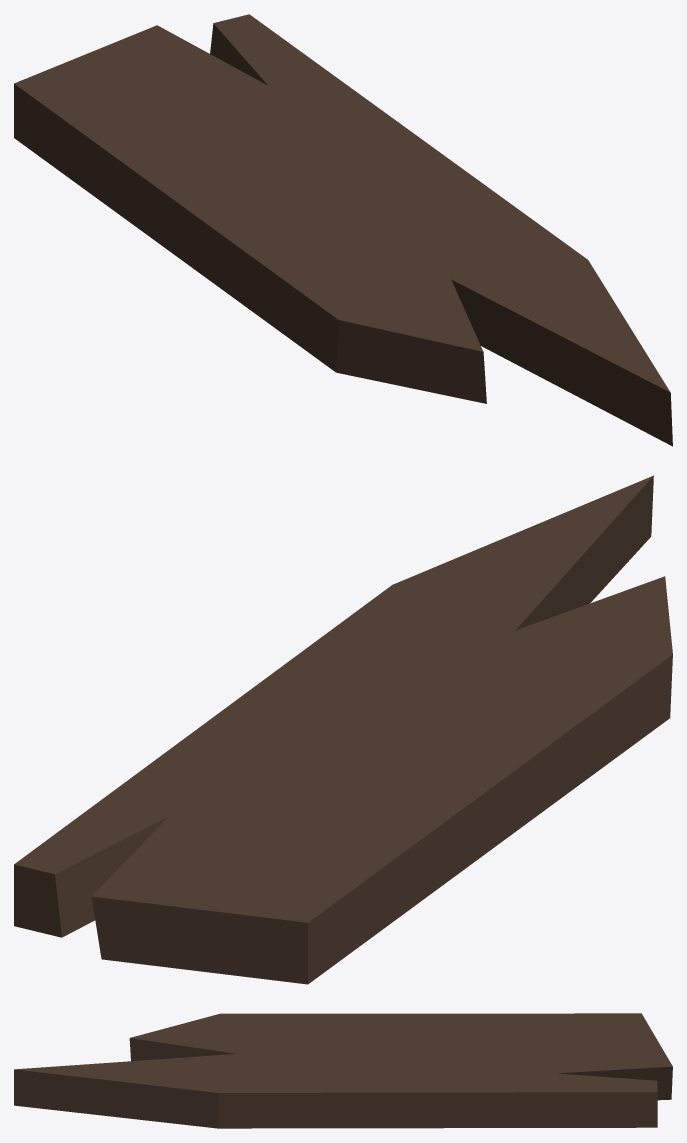
File: plank_3.fbx
3 renders of one model, top to bottom at view 1: azimuth 30°, elevation 25°; view 2: azimuth 150°, elevation 25°; view 3: azimuth 270°, elevation 25°, orthographic. The views are drawn at different scales.
Parts seen in each view (by area): view 1: plank_3; view 2: plank_3; view 3: plank_3.
Part boxes in pixels (box(x1,y1,x2,y2)): plank_3: box(14, 14, 672, 446); plank_3: box(14, 475, 672, 984); plank_3: box(14, 1013, 672, 1128).
Bounding box in the file's own units: 35.12 × 7.32 × 123.
